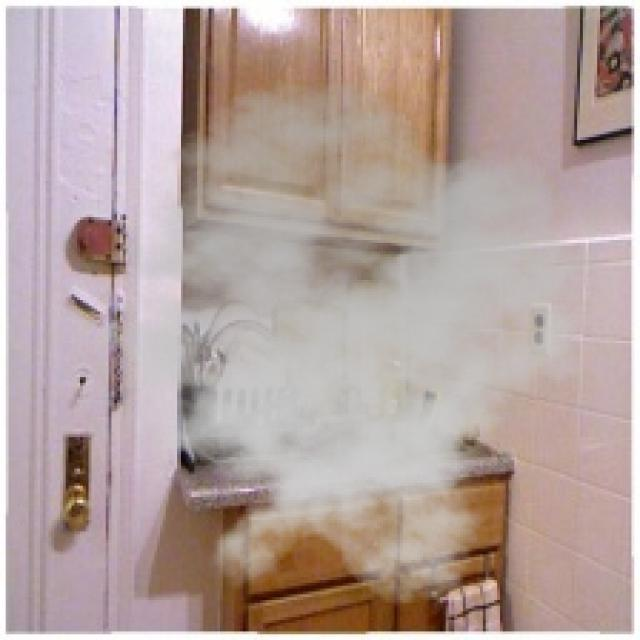Smoke: (66, 80, 614, 609)
